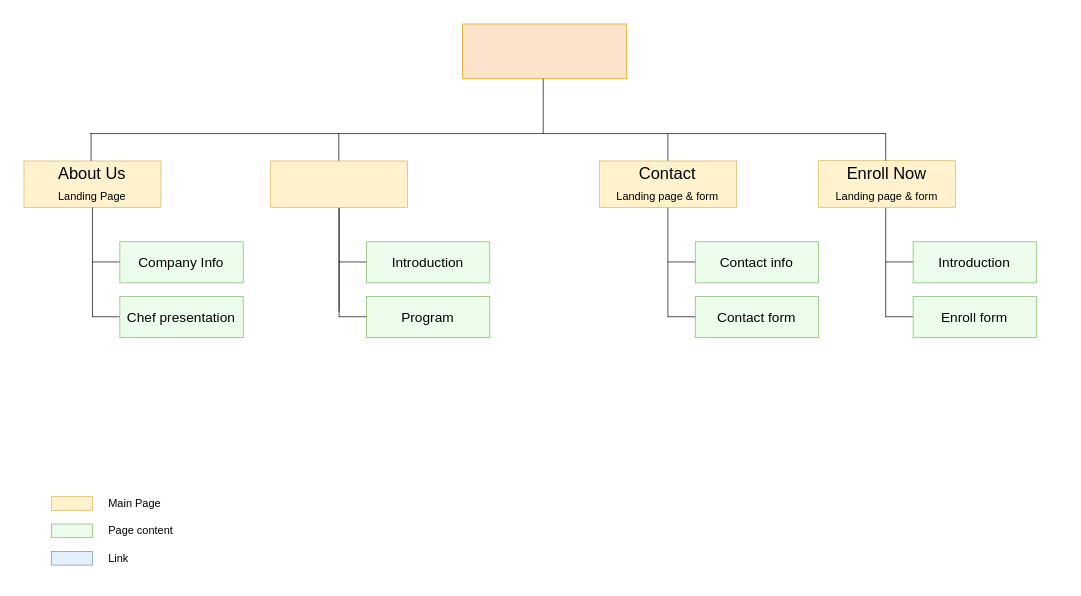
This 1081x596 diagram has some shape labels left out. Here are the shapes that lost their labels. From the top down, the centre of each, then its label:
At [544,51]: "Home".
At [338,183]: "Our Class Landing page".
